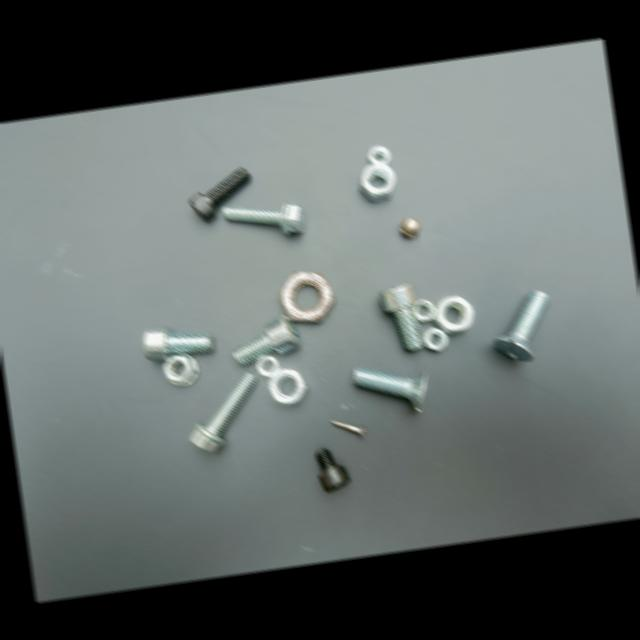bolt: (190, 372, 257, 452), (493, 290, 549, 361), (380, 283, 434, 350), (189, 167, 251, 221), (233, 315, 301, 364), (353, 367, 427, 410), (223, 201, 305, 234), (144, 326, 214, 360), (316, 448, 350, 492), (331, 420, 365, 436)
nuts: (279, 271, 335, 322), (433, 296, 474, 333), (359, 162, 396, 202), (269, 368, 307, 403), (164, 353, 199, 385), (423, 326, 448, 351), (413, 299, 437, 321), (256, 355, 280, 376), (400, 217, 421, 239), (368, 145, 391, 164)
